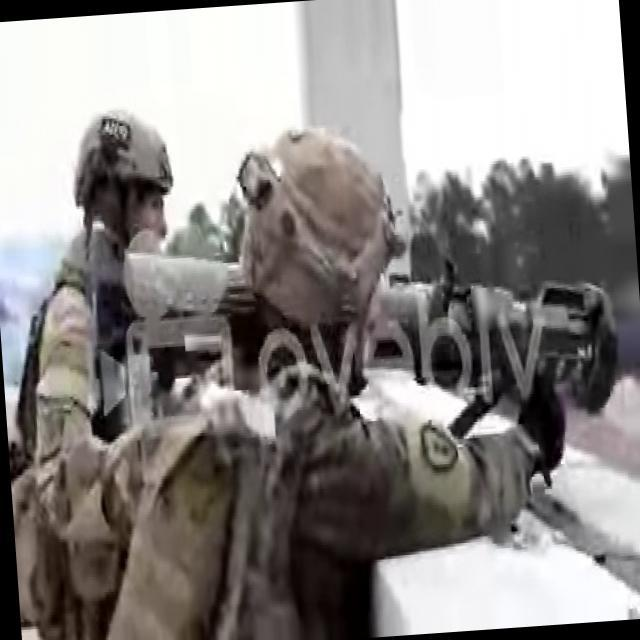rocket: (374, 262, 624, 433)
